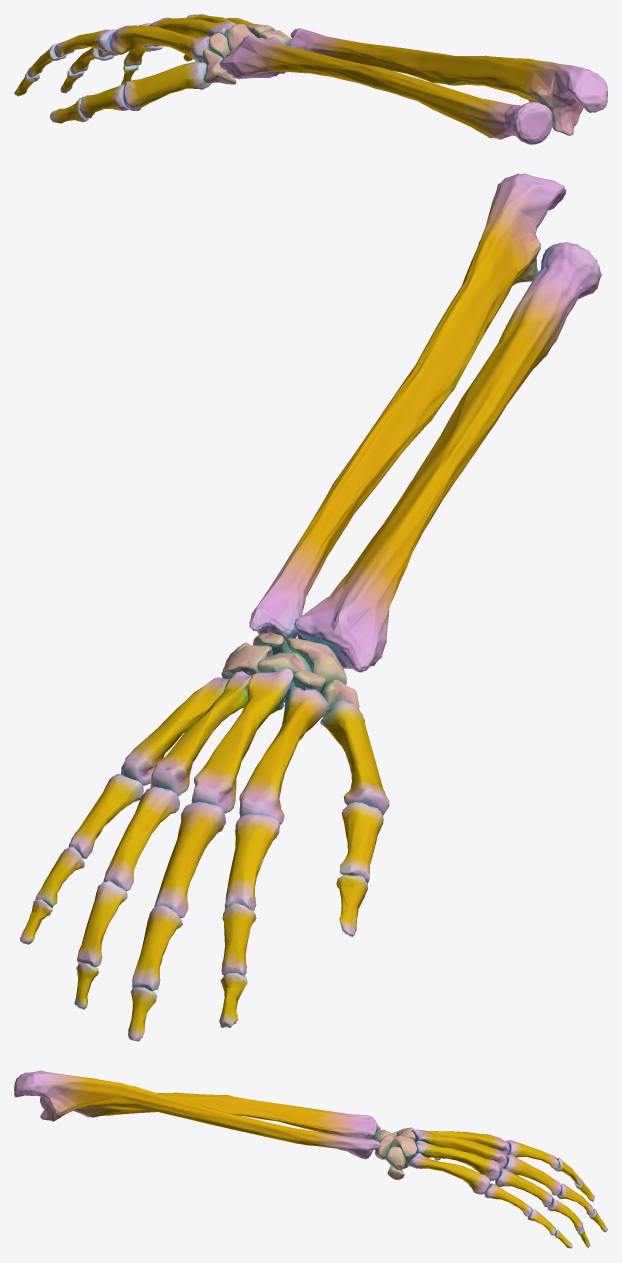
The model's file is hand.glb.
The picture shows the model from 3 angles, top to bottom: view 1: azimuth 30°, elevation 25°; view 2: azimuth 150°, elevation 25°; view 3: azimuth 270°, elevation 25°; orthographic projection. The views are drawn at different scales.
Parts seen in each view (by area): view 1: ulna, radius, mc1, mc2, mc3, pp2, pp1, trapezium, dp1, mp3, mp2, capitate (+8 smaller); view 2: radius, ulna, mc3, mc2, pp3, mc4, mc1, mc5, pp2, pp4, pp1, pp5 (+6 smaller); view 3: ulna, radius, mc4, mc3, mc5, pp3, pp4, mc2, pp2, pp5, hamate, mp3 (+5 smaller).
Boxes of the visible parts, x1,y1,x2,y2 form: ulna: (284,28,607,135); radius: (219,35,552,144); mc1: (123,61,211,110); mc2: (110,25,210,62); mc3: (149,17,235,46); pp2: (54,29,115,57); pp1: (79,84,128,118); trapezium: (202,49,236,84); dp1: (49,96,88,123); mp3: (70,48,114,74); mp2: (27,43,66,77); capitate: (227,23,257,51); radius: (294,242,601,672); ulna: (249,173,566,640); mc3: (191,668,293,813); mc2: (239,686,327,824); pp3: (154,802,225,918); mc4: (150,671,251,796); mc1: (320,700,389,815); mc5: (120,677,228,785); pp2: (224,814,280,910); pp4: (103,786,179,891); pp1: (339,802,383,883); pp5: (68,774,143,858); ulna: (14,1070,381,1159); radius: (40,1092,380,1139); mc4: (412,1141,500,1180); mc3: (412,1129,506,1168); mc5: (409,1153,490,1194); pp3: (503,1154,561,1195); pp4: (495,1168,552,1207); mc2: (417,1129,509,1155); pp2: (506,1140,559,1169); pp5: (484,1183,532,1216); hamate: (390,1136,417,1168); mp3: (557,1183,593,1215).
Size of the model in its own units: 127 by 151 by 399.
